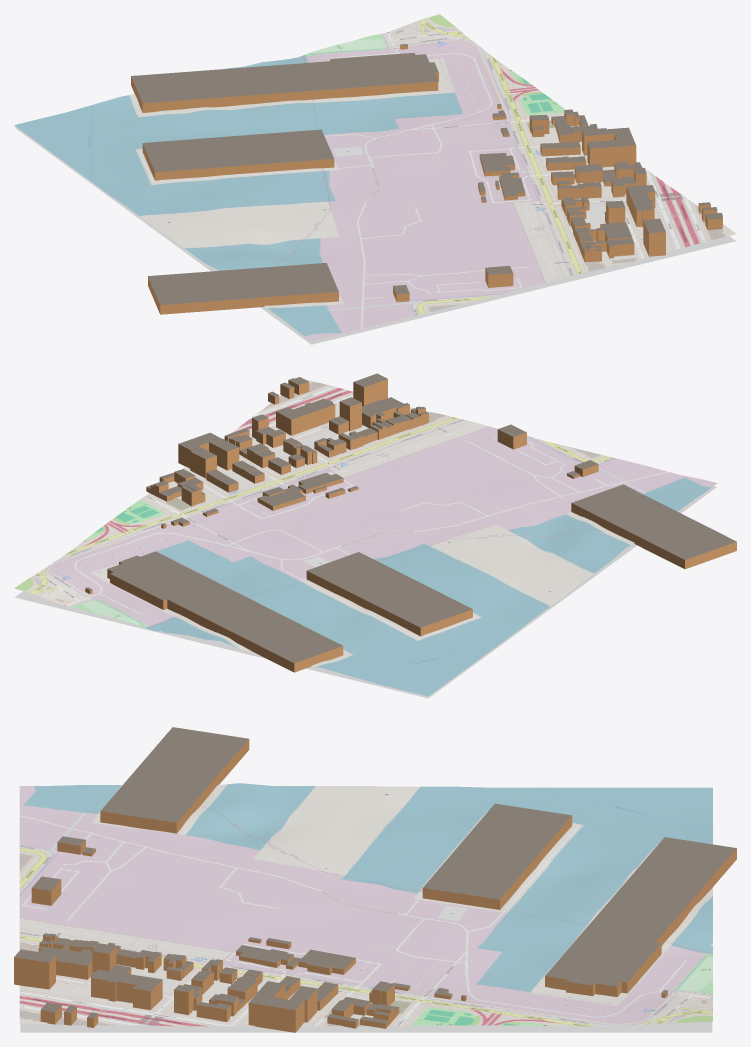
The picture shows the model from 3 angles, top to bottom: view 1: azimuth 30°, elevation 25°; view 2: azimuth 150°, elevation 25°; view 3: azimuth 270°, elevation 25°; orthographic projection. The views are drawn at different scales.
Visible parts, largest first — view 1: Terrain, map_6.osm_buildings, Terrain_envelope; view 2: Terrain, map_6.osm_buildings, Terrain_envelope; view 3: Terrain, map_6.osm_buildings, Terrain_envelope.
Part boxes in pixels (x1,y1,x2,y2): Terrain: (14, 14, 736, 340); map_6.osm_buildings: (131, 44, 722, 314); Terrain_envelope: (15, 127, 735, 344); Terrain: (14, 379, 717, 696); map_6.osm_buildings: (85, 373, 736, 672); Terrain_envelope: (15, 486, 716, 698); Terrain: (19, 783, 712, 1026); map_6.osm_buildings: (14, 727, 736, 1032); Terrain_envelope: (20, 1021, 712, 1032).
Size of the model in its own units: 689 by 38.9 by 710.
Materials: 3 (1 with a texture image).
